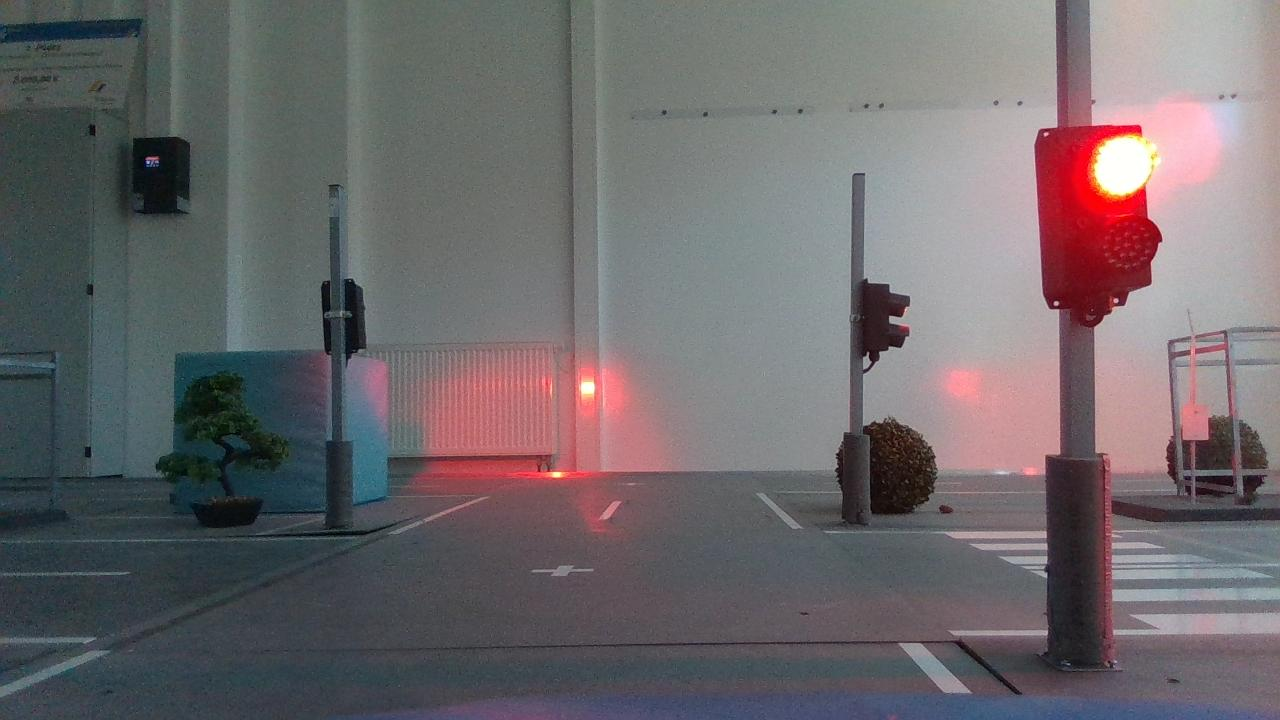traffic_light_red: (1018, 112, 1167, 314)
